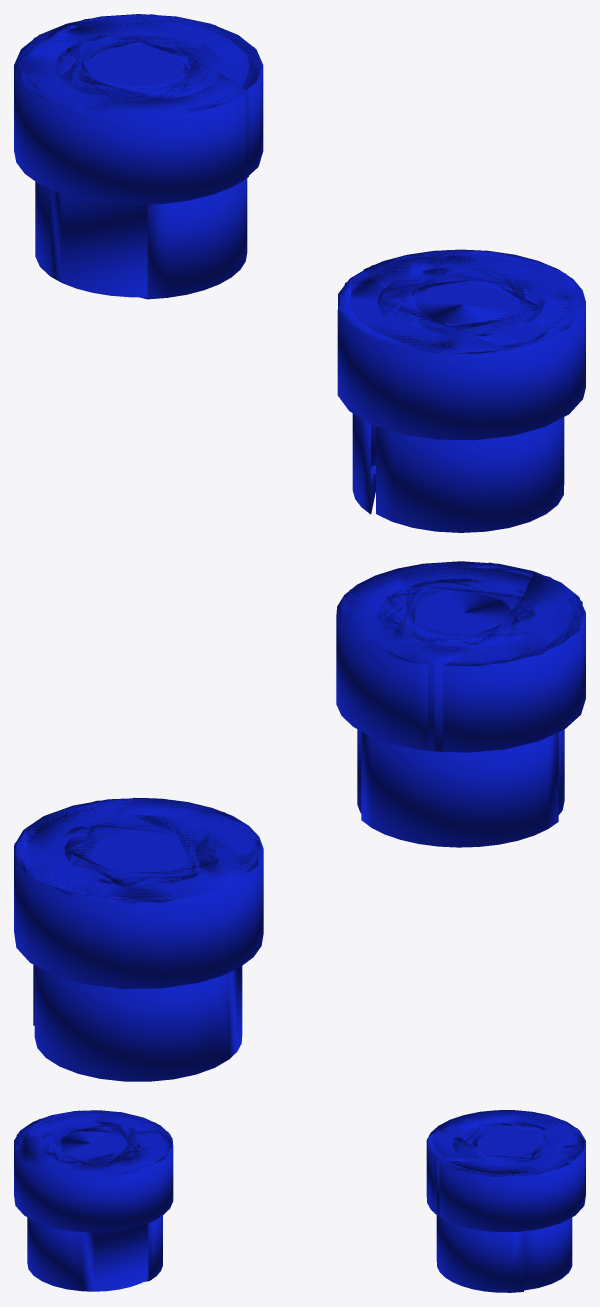
File: tuyeau_element_000035.obj
The picture shows the model from 3 angles, top to bottom: view 1: azimuth 30°, elevation 25°; view 2: azimuth 150°, elevation 25°; view 3: azimuth 270°, elevation 25°; orthographic projection. The views are drawn at different scales.
Visible parts, largest first — view 1: tuyeau1_Cube.014, tuyeau2_Cube.017; view 2: tuyeau2_Cube.017, tuyeau1_Cube.014; view 3: tuyeau1_Cube.014, tuyeau2_Cube.017.
Boxes of the visible parts, x1,y1,x2,y2 form: tuyeau1_Cube.014: (14, 14, 263, 299); tuyeau2_Cube.017: (337, 249, 585, 532); tuyeau2_Cube.017: (336, 561, 585, 847); tuyeau1_Cube.014: (14, 797, 263, 1081); tuyeau1_Cube.014: (426, 1110, 585, 1292); tuyeau2_Cube.017: (14, 1110, 173, 1291).
Bounding box in the file's own units: 3526 × 2917 × 12623.
